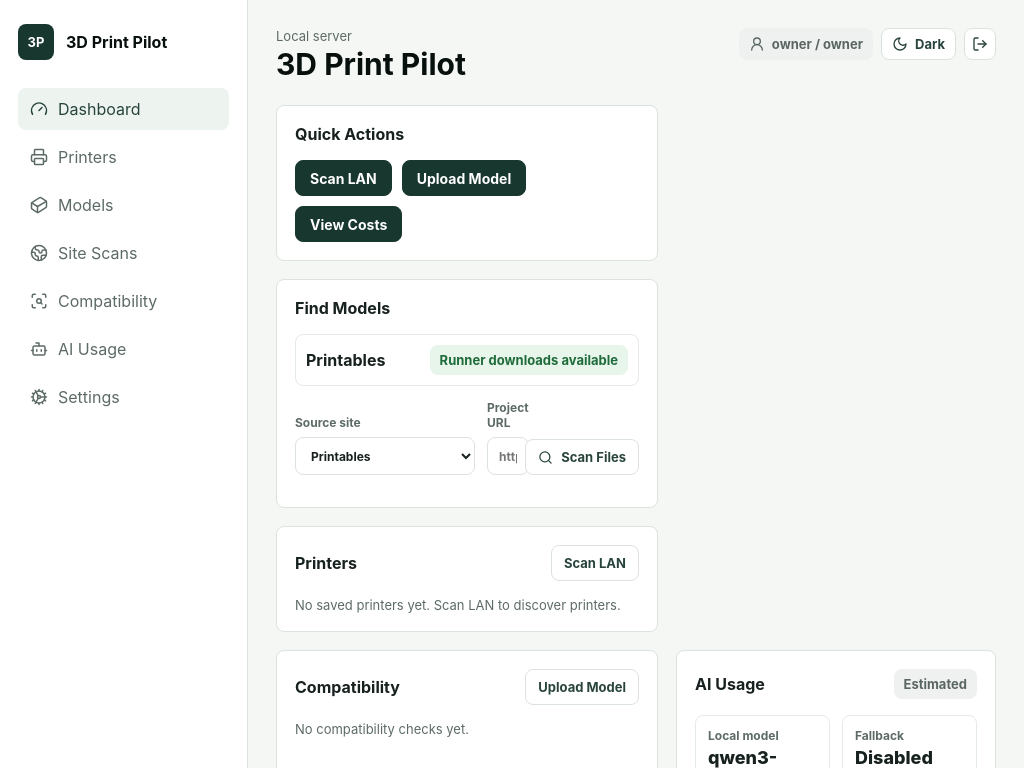
Test: App › lazy-loads the site scanning domain page from navigation
Click the button "Site Scans" at (124, 253), box [18,232,229,274]
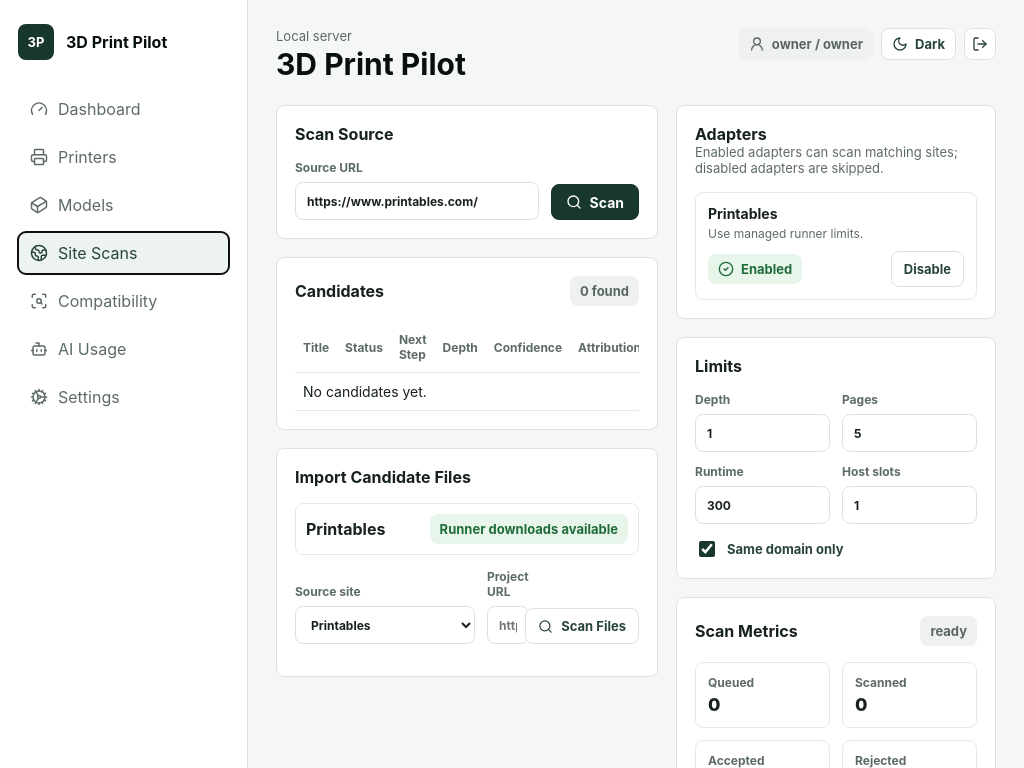
Expected: the heading "Scan Source" is shown, [295,124,393,144]
Expected: the heading "Limits" is shown, [695,356,742,376]
Expected: the heading "Scan Metrics" is shown, [695,621,798,641]
